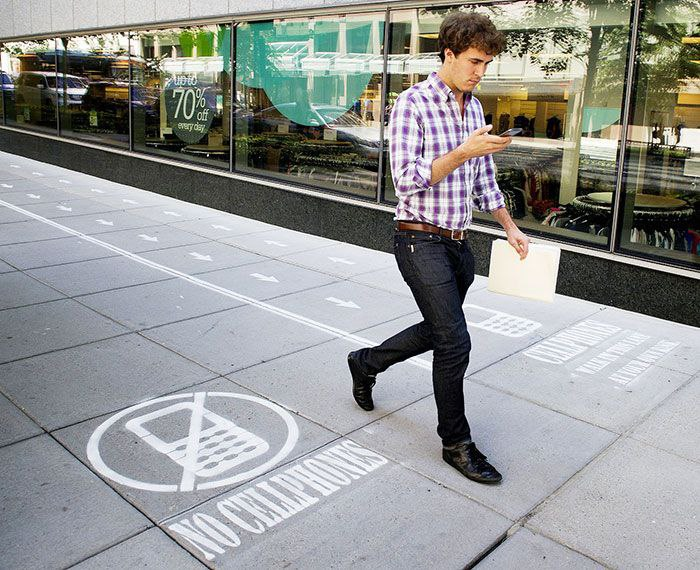sombie: (335, 7, 545, 498)
